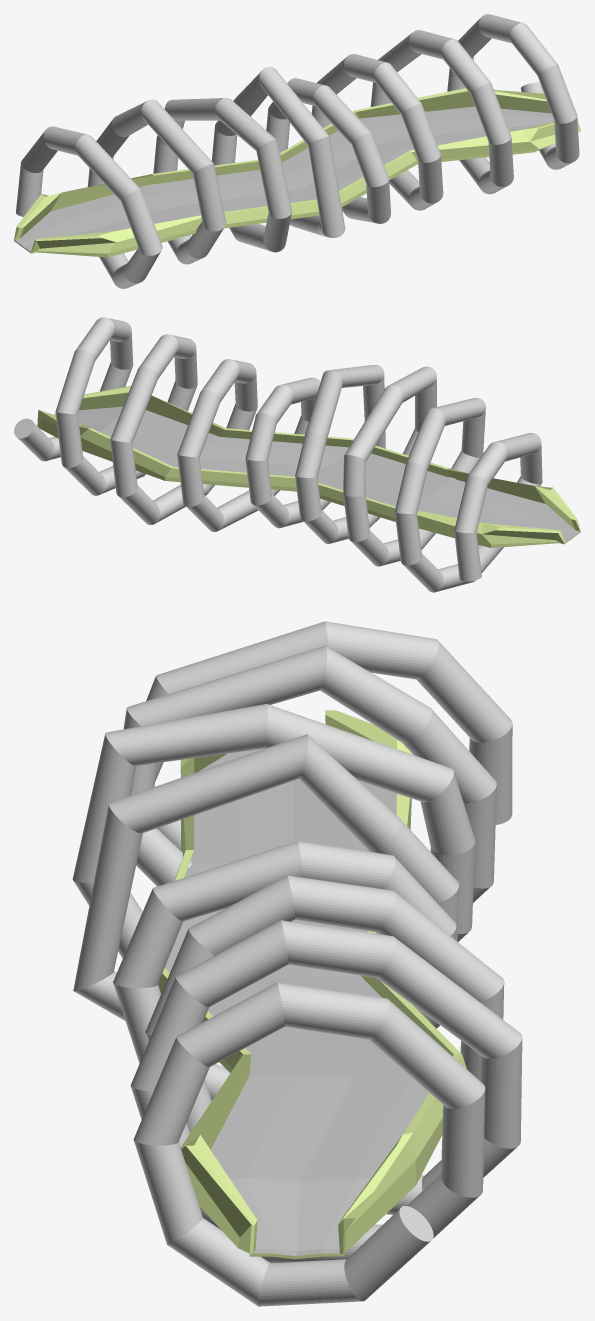
File: 3Way.fbx
3 renders of one model, top to bottom at view 1: azimuth 30°, elevation 25°; view 2: azimuth 150°, elevation 25°; view 3: azimuth 270°, elevation 25°, orthographic. The views are drawn at different scales.
Visible parts, largest first — view 1: Plane.001, Plane; view 2: Plane.001, Plane; view 3: Plane.001, Plane.
Boxes of the visible parts, x1,y1,x2,y2 form: Plane.001: (16,14,579,288); Plane: (14,88,580,257); Plane.001: (14,317,542,592); Plane: (37,386,580,547); Plane.001: (72,621,522,1306); Plane: (158,710,466,1259).
Bounding box in the file's own units: 10546 × 3406 × 3891.
